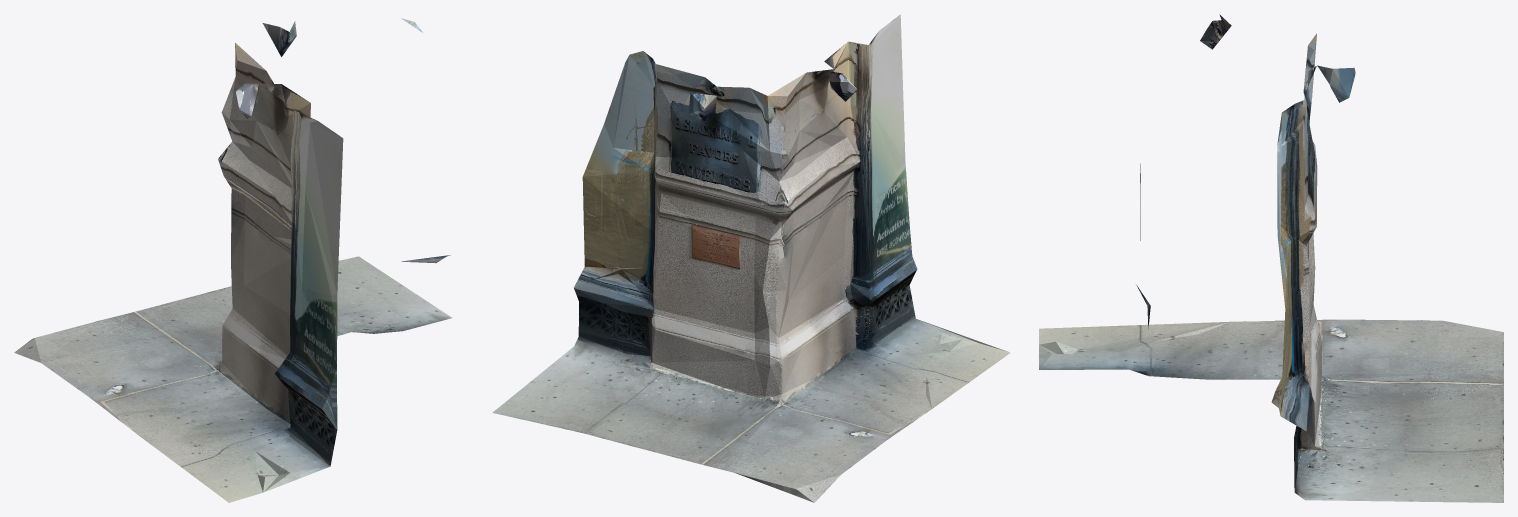
3 views of the same model, side by side, from view 1: azimuth 30°, elevation 25°; view 2: azimuth 150°, elevation 25°; view 3: azimuth 270°, elevation 25° (orthographic). The views are drawn at different scales.
Bounding box in the file's own units: 3.85 × 3.59 × 4.07.
1 material, 1 textured.
